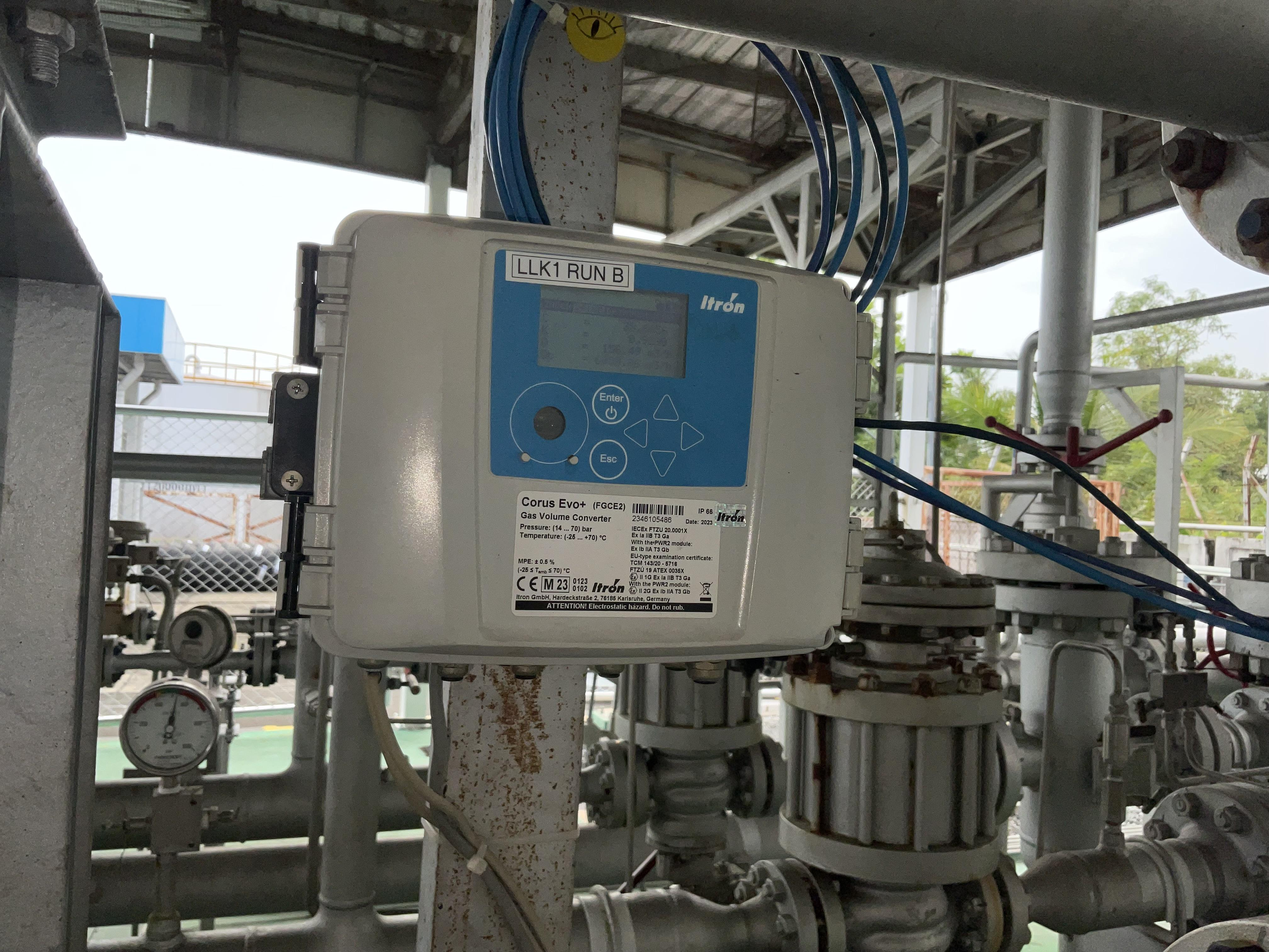digital_screen: (535, 282, 692, 378)
